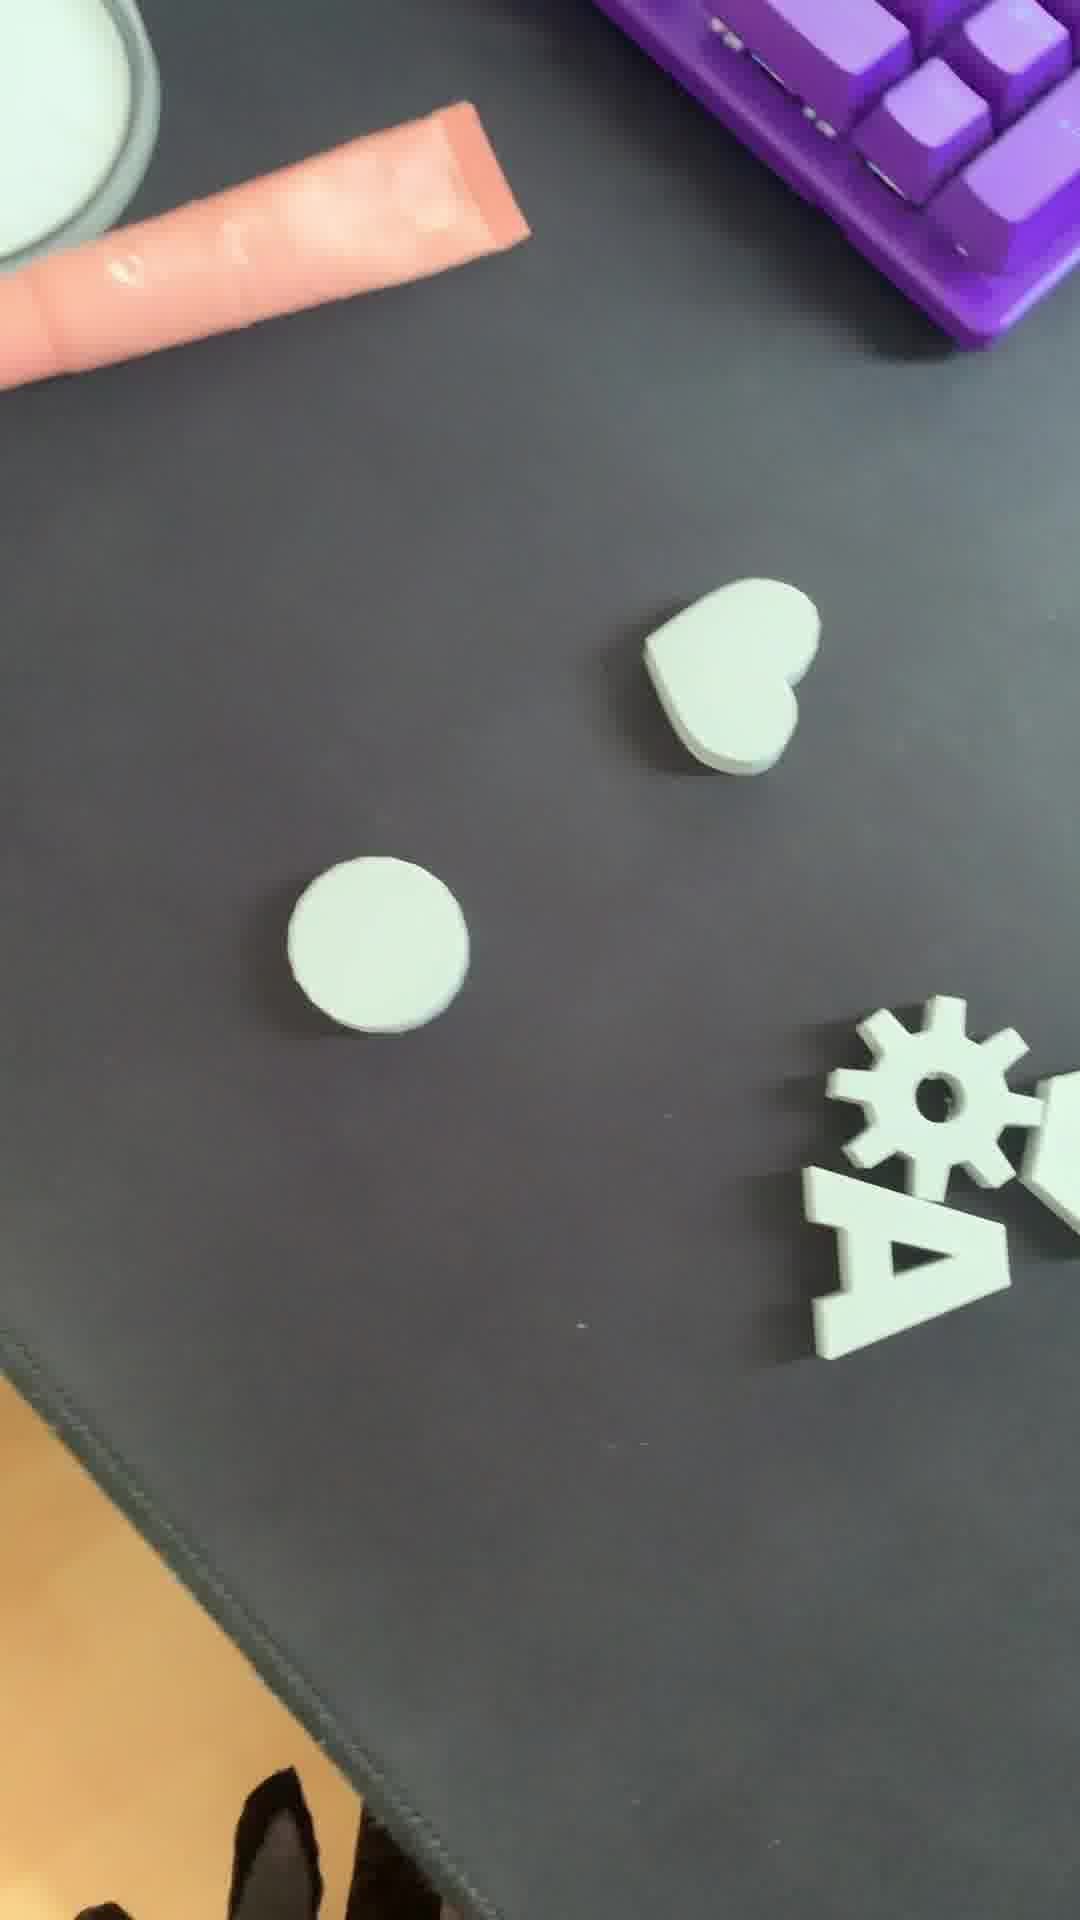Gray A-letter: (798, 1174, 1015, 1375)
Gray circle: (280, 852, 484, 1050)
Gray gear: (829, 1001, 1036, 1204)
Gray heart: (649, 574, 829, 783)
